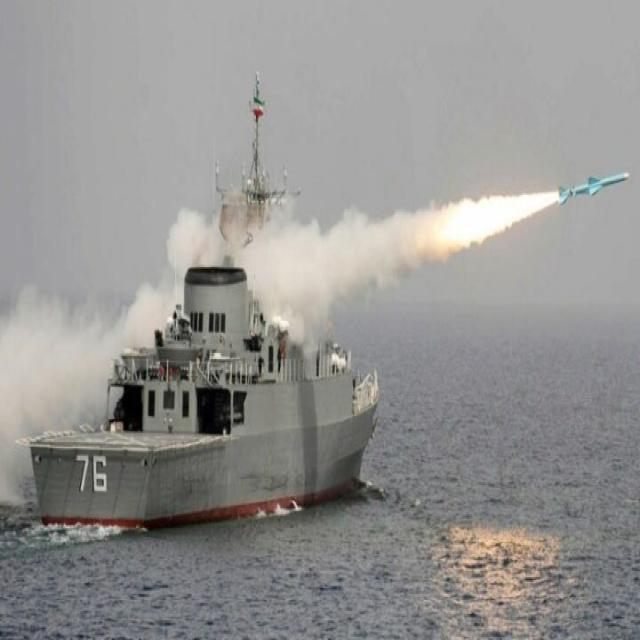navalvessels: (20, 58, 383, 542)
